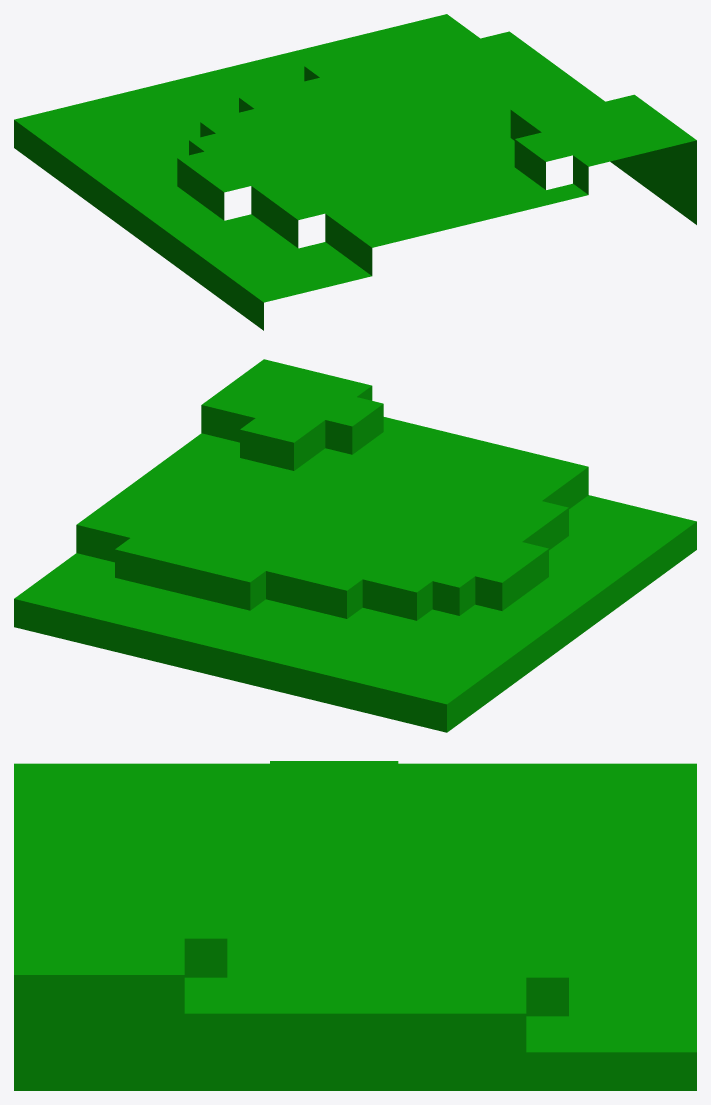
File: Corner14.fbx
3 renders of one model, top to bottom at view 1: azimuth 30°, elevation 25°; view 2: azimuth 150°, elevation 25°; view 3: azimuth 270°, elevation 25°, orthographic. The views are drawn at different scales.
Visible parts, largest first — view 1: Matrix; view 2: Matrix; view 3: Matrix.
Part boxes in pixels (box(x1,y1,x2,y2)): Matrix: box(14, 14, 696, 330); Matrix: box(14, 359, 696, 732); Matrix: box(14, 761, 696, 1090).
Bounding box in the file's own units: 16 × 3 × 16.
Materials: 1 (1 with a texture image).
